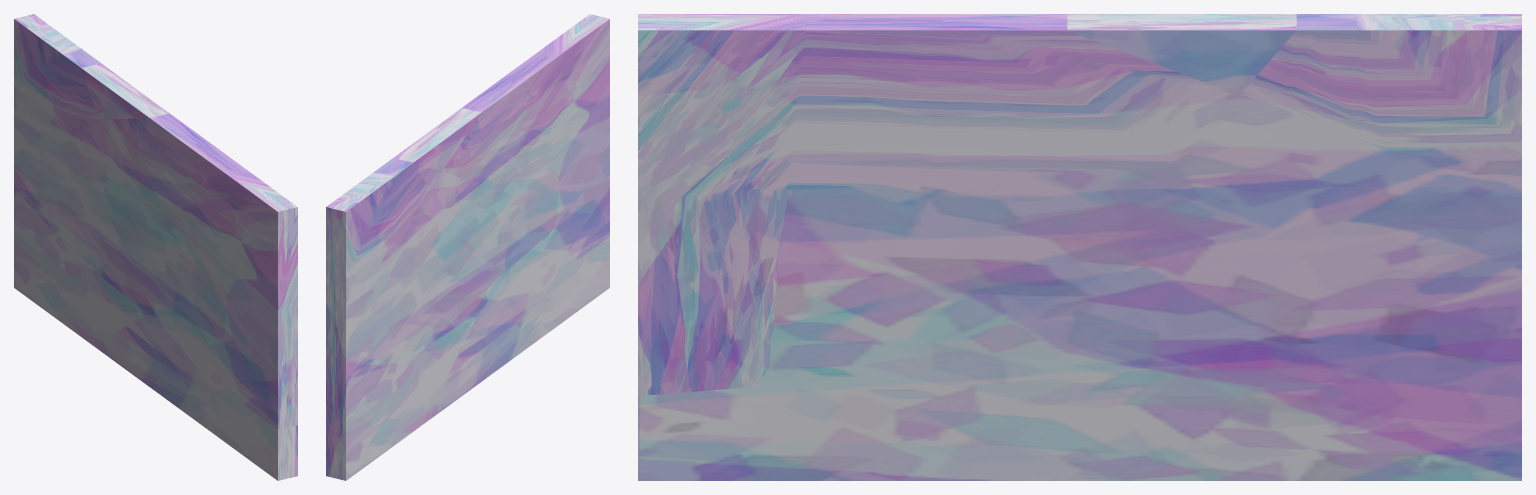
Rendered from Crystaltest.fbx.
3 renders of one model, left to right at view 1: azimuth 30°, elevation 25°; view 2: azimuth 150°, elevation 25°; view 3: azimuth 270°, elevation 25°, orthographic. The views are drawn at different scales.
Parts seen in each view (by area): view 1: polySurface2, polySurface6, polySurface40, polySurface10, polySurface4, polySurface18, polySurface32, polySurface43, polySurface26, polySurface36, polySurface37, polySurface30 (+16 smaller); view 2: polySurface40, polySurface2, polySurface18, polySurface26, polySurface6, polySurface10, polySurface4, polySurface32, polySurface43, polySurface22, polySurface36, polySurface30 (+16 smaller); view 3: polySurface39, polySurface2, polySurface6, polySurface10, polySurface32, polySurface4, polySurface42, polySurface18, polySurface26, polySurface36, polySurface30, polySurface22 (+16 smaller).
Boxes of the visible parts, x1,y1,x2,y2 form: polySurface2: (227, 170, 297, 312); polySurface6: (233, 274, 297, 429); polySurface40: (180, 235, 239, 395); polySurface10: (98, 113, 199, 202); polySurface4: (187, 145, 247, 273); polySurface18: (14, 14, 82, 120); polySurface32: (111, 283, 178, 405); polySurface43: (136, 203, 187, 343); polySurface26: (14, 197, 56, 315); polySurface36: (179, 344, 242, 454); polySurface37: (239, 396, 297, 480); polySurface30: (75, 262, 124, 368); polySurface40: (512, 147, 571, 293); polySurface2: (540, 14, 609, 146); polySurface18: (326, 171, 395, 278); polySurface26: (326, 365, 388, 480); polySurface6: (565, 120, 609, 259); polySurface10: (430, 85, 511, 216); polySurface4: (506, 51, 564, 173); polySurface32: (443, 300, 510, 399); polySurface43: (468, 174, 519, 299); polySurface22: (326, 251, 392, 366); polySurface36: (511, 260, 574, 344); polySurface30: (407, 334, 456, 435); polySurface39: (767, 180, 964, 385); polySurface2: (638, 14, 805, 199); polySurface6: (638, 190, 788, 395); polySurface10: (966, 14, 1238, 171); polySurface32: (969, 353, 1196, 480); polySurface4: (789, 14, 939, 189); polySurface42: (940, 171, 1111, 370); polySurface18: (1355, 14, 1521, 150); polySurface26: (1380, 328, 1521, 480); polySurface36: (757, 371, 968, 480); polySurface30: (1150, 347, 1316, 480); polySurface22: (1365, 151, 1521, 289).
Bounding box in the file's own units: 0.7 × 9 × 16.
